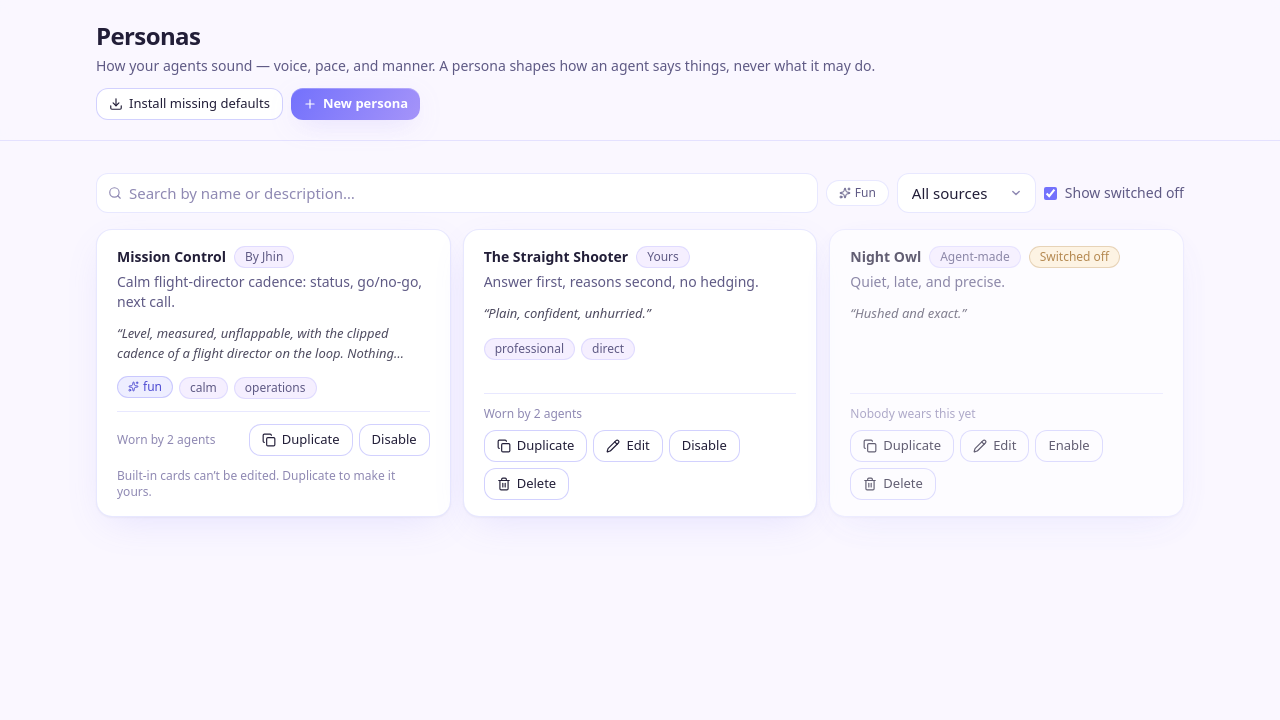
Test case: PersonasPage gallery › narrows by search, the fun toggle, and the source
The width and height of the screenshot is (1280, 720).
Step 1. Type "reasons" into the field named "Search personas" → (457, 193), box [96,173,818,213]
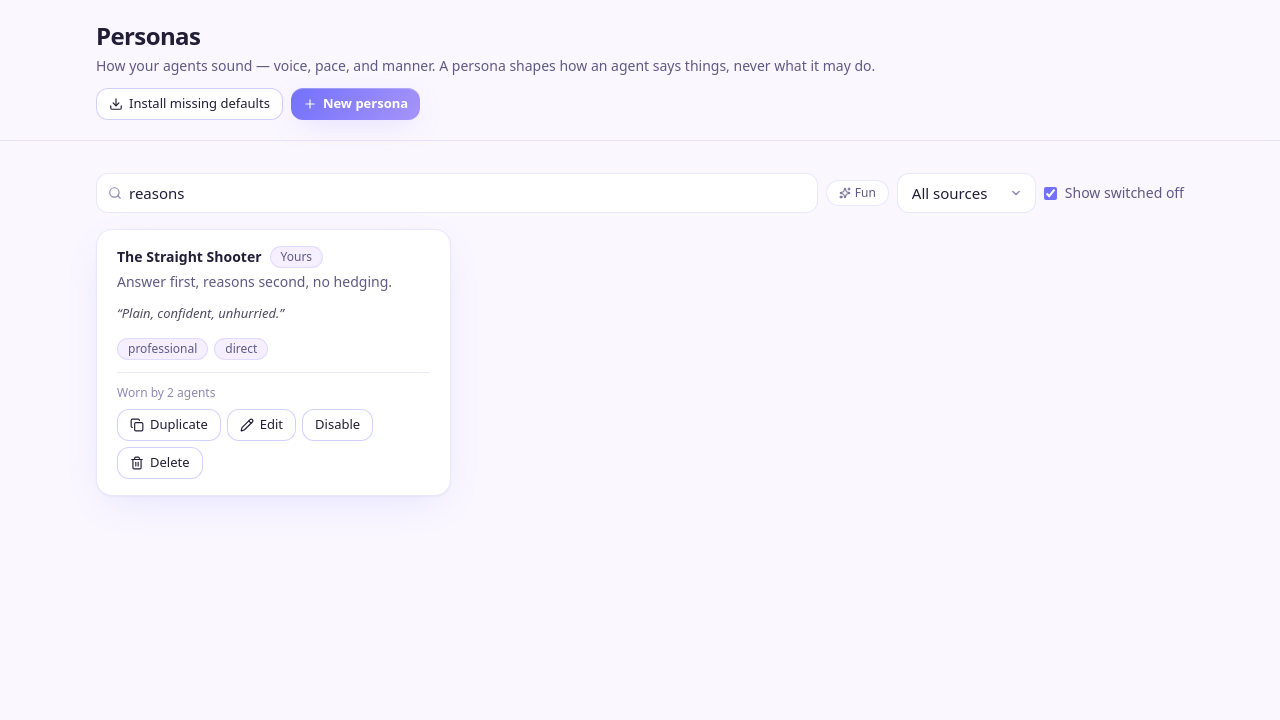
expect the list item with test id "persona-the-straight-shooter" is shown: met, box [96,229,451,496]
expect the list item with test id "persona-mission-control" is gone: met
Step 2. Clear the field named "Search personas" → (457, 193), box [96,173,818,213]
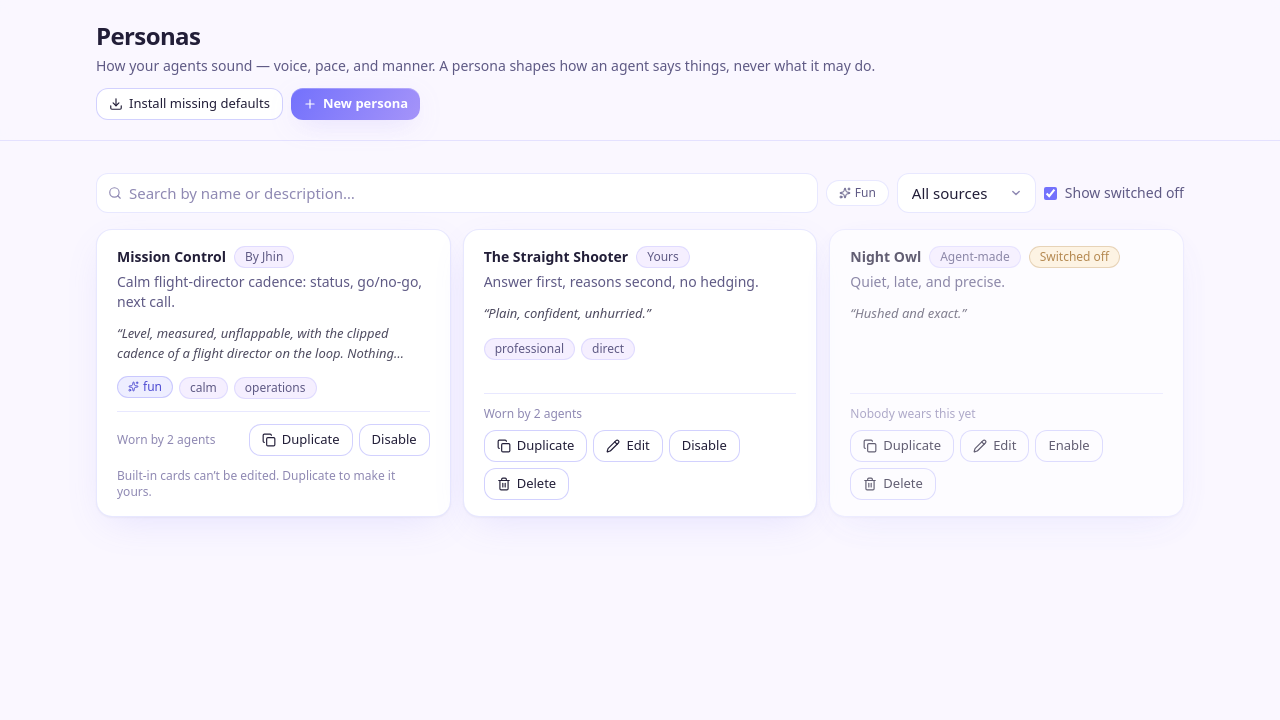
Step 3. Click the button "Fun" → click(857, 193), box [826,180,889,206]
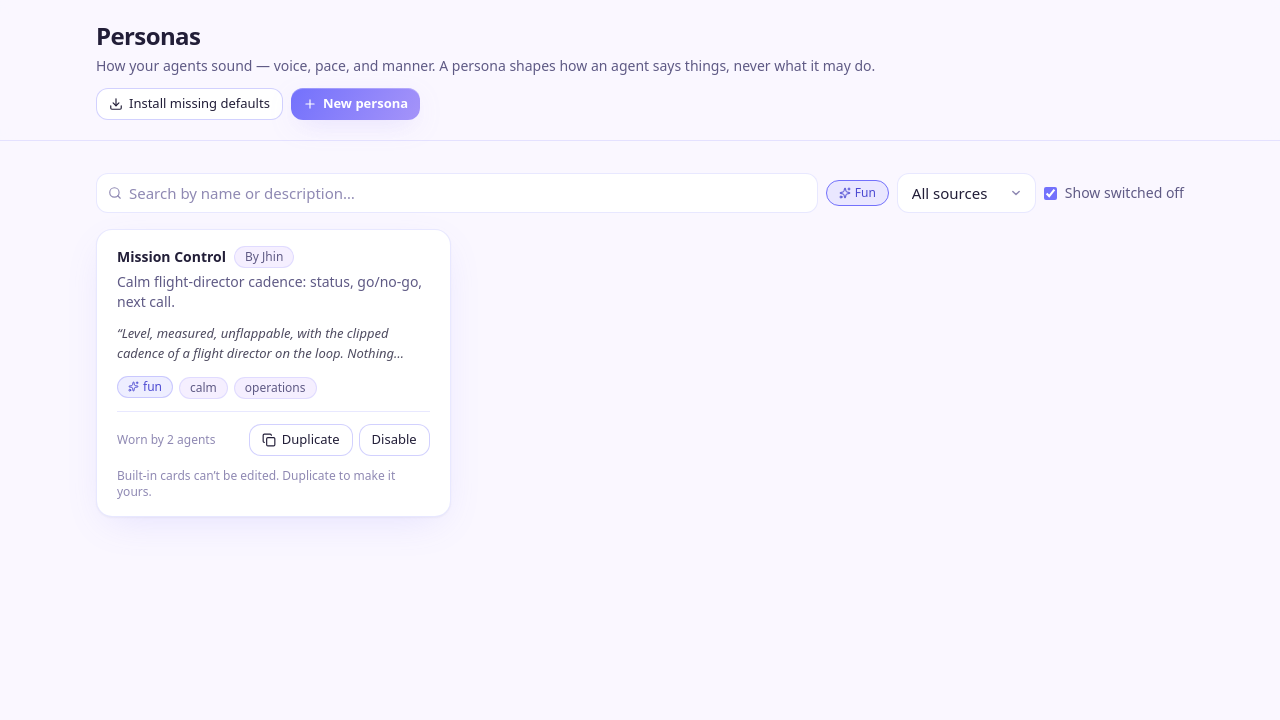
expect the list item with test id "persona-mission-control" is shown: met, box [96,229,451,517]
expect the list item with test id "persona-the-straight-shooter" is gone: met
Step 4. Click the button "Fun" → click(857, 193), box [826,180,889,206]
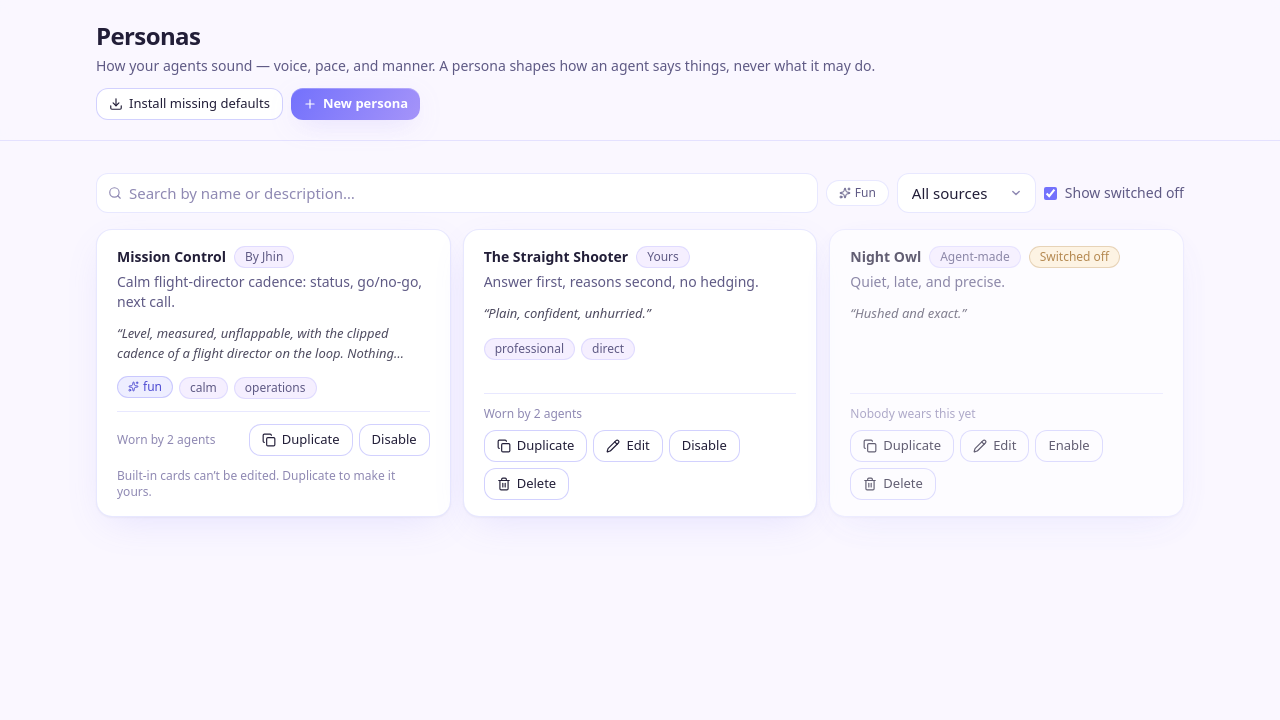
Step 5. Select "Agent-made" in the dropdown named "Source" → (966, 193), box [897,173,1036,213]
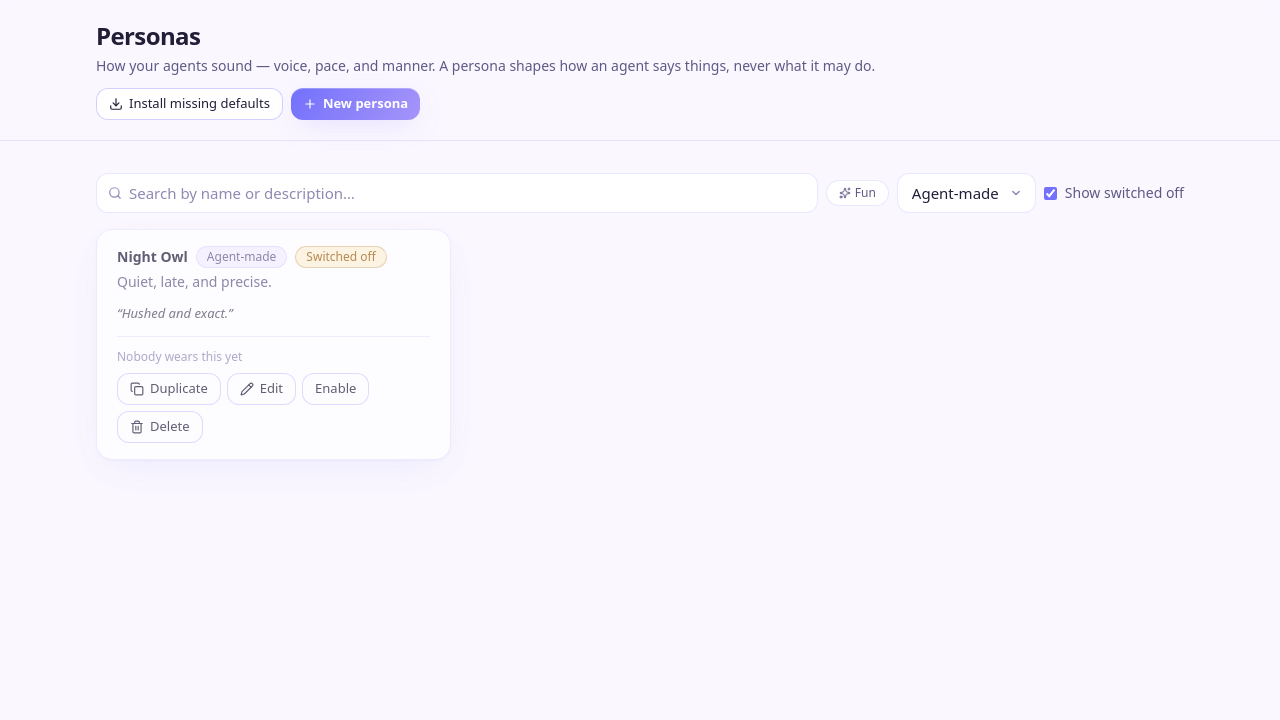
expect the list item with test id "persona-night-owl" is shown: met, box [96,229,451,460]
expect the list item with test id "persona-mission-control" is gone: met
